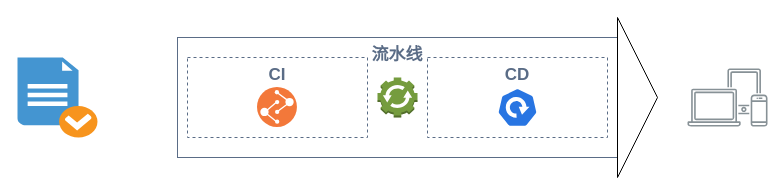
Some shapes in this 784 by 195 pixel diagram are drawn without their labels. The centre of each missing label's shape, as x and y in pixels:
"产品" goes at pixel 727 97.
"产品设计文档" goes at pixel 57 97.
